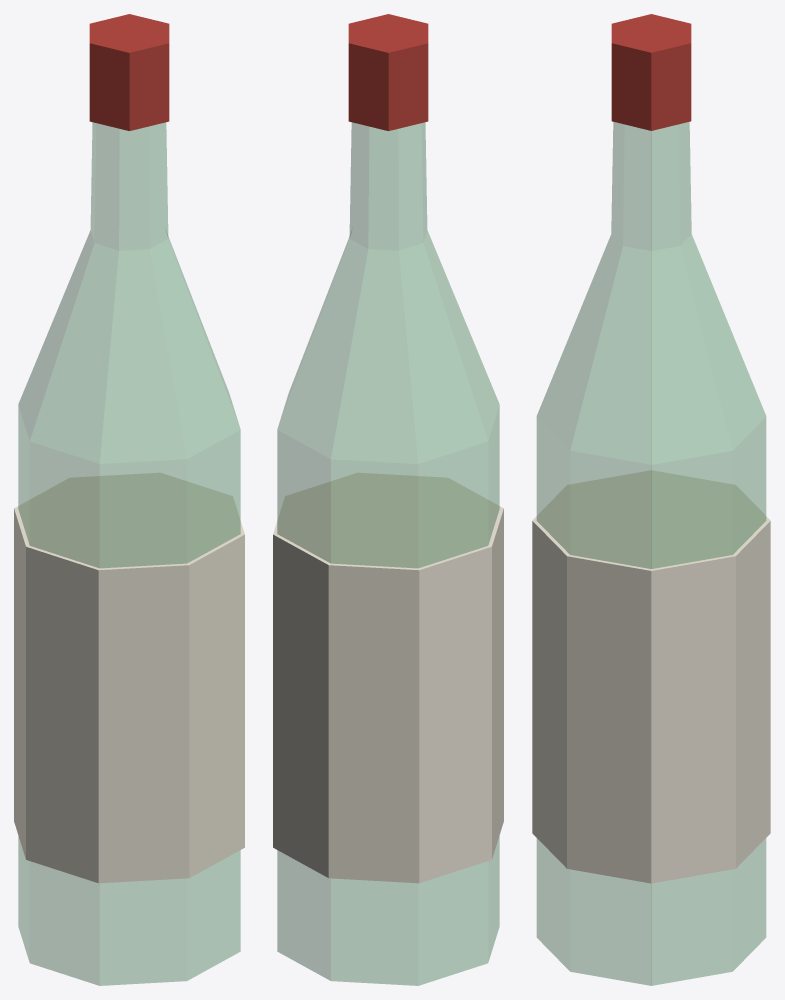
File: FD_WineBottle_01.glb
3 renders of one model, left to right at view 1: azimuth 30°, elevation 25°; view 2: azimuth 150°, elevation 25°; view 3: azimuth 270°, elevation 25°, orthographic.
Parts seen in each view (by area): view 1: FD_WineBottle_01; view 2: FD_WineBottle_01; view 3: FD_WineBottle_01.
Part boxes in pixels (left/top/right/bottom): FD_WineBottle_01: left=14, top=14, right=244, bottom=985; FD_WineBottle_01: left=273, top=14, right=503, bottom=985; FD_WineBottle_01: left=532, top=14, right=770, bottom=985.
Bounding box in the file's own units: 0.083 × 0.347 × 0.083.
2 materials, 2 textured.
